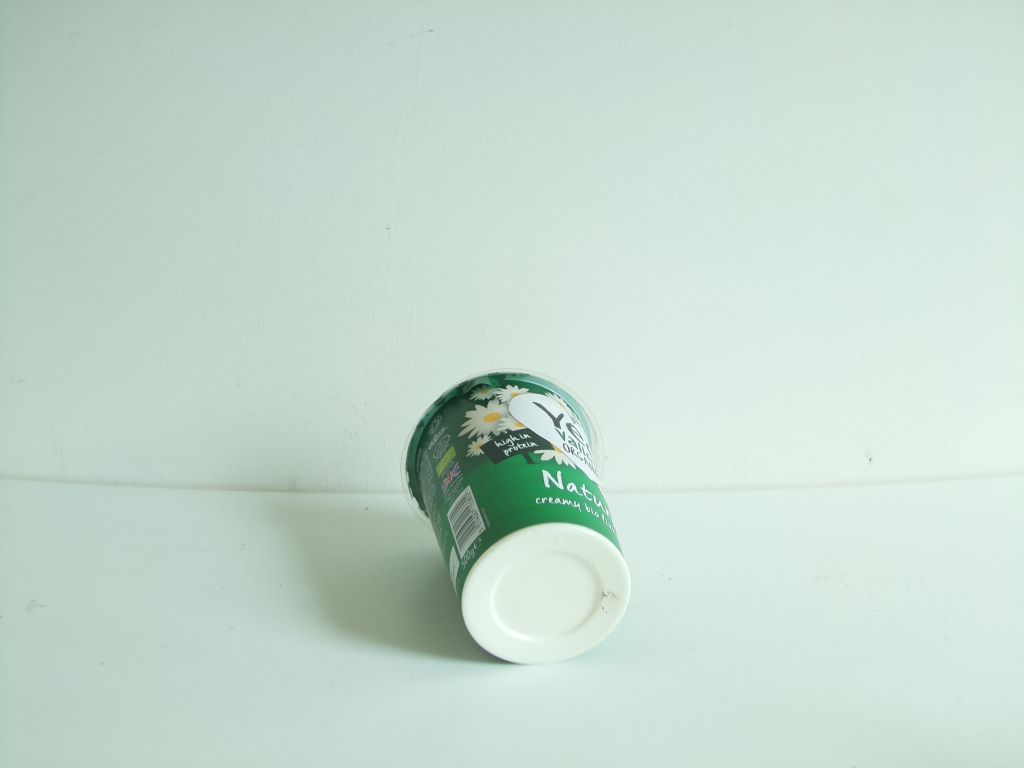yogurt: (394, 366, 642, 668)
